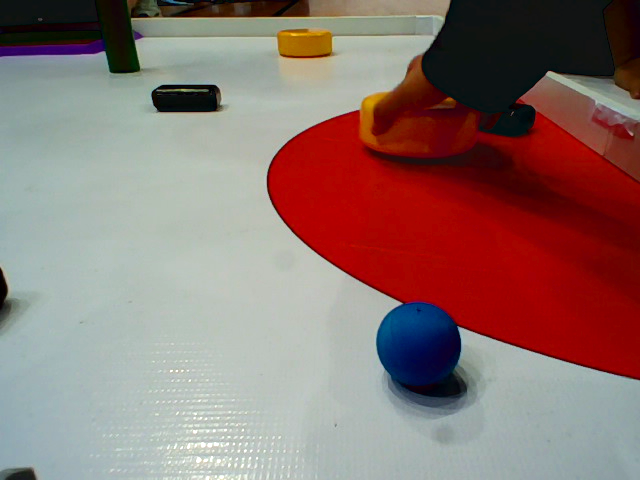black: (149, 84, 223, 115)
blue: (377, 300, 470, 391)
kuang: (1, 19, 144, 64)
yellow: (211, 103, 351, 194), (276, 27, 336, 61)
zhuzi: (98, 1, 140, 79)
